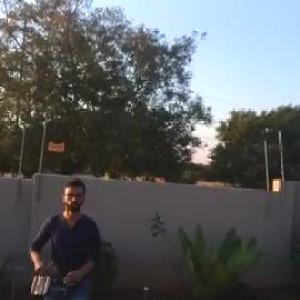follow: (16, 171, 106, 299)
